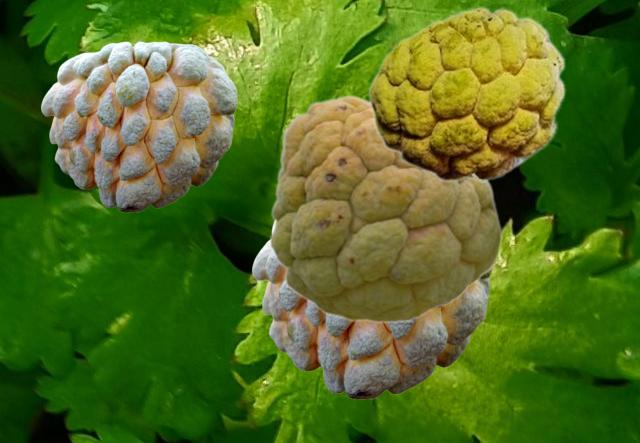atis: (268, 94, 501, 322), (252, 223, 492, 398), (367, 6, 565, 181), (41, 41, 236, 211)
